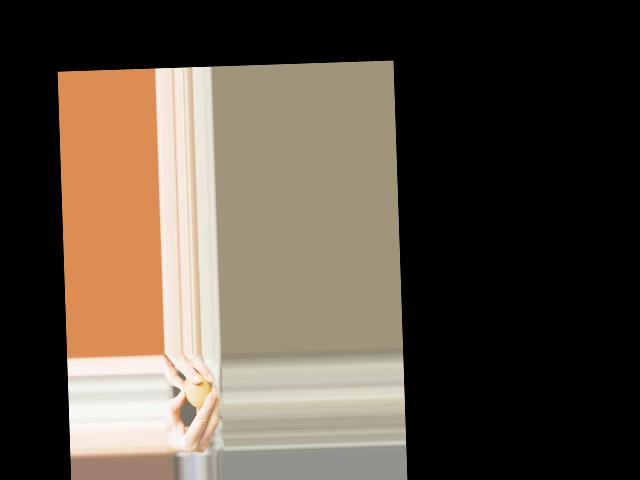egg: (182, 372, 212, 408)
